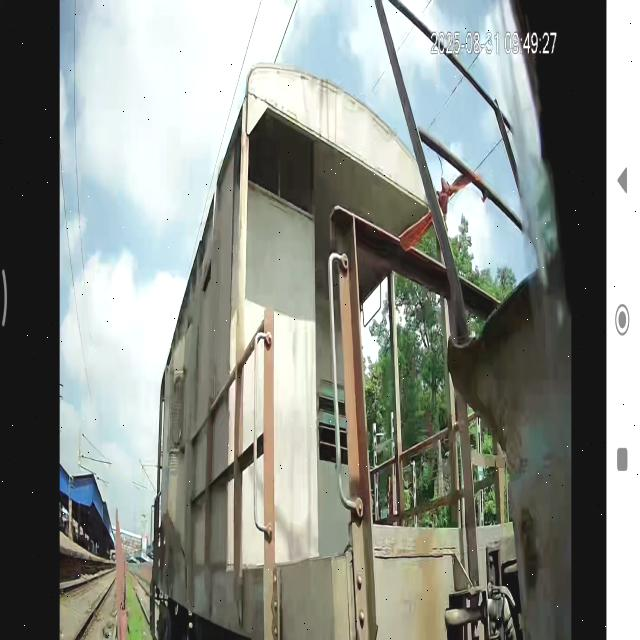brakevan: (119, 0, 578, 640)
